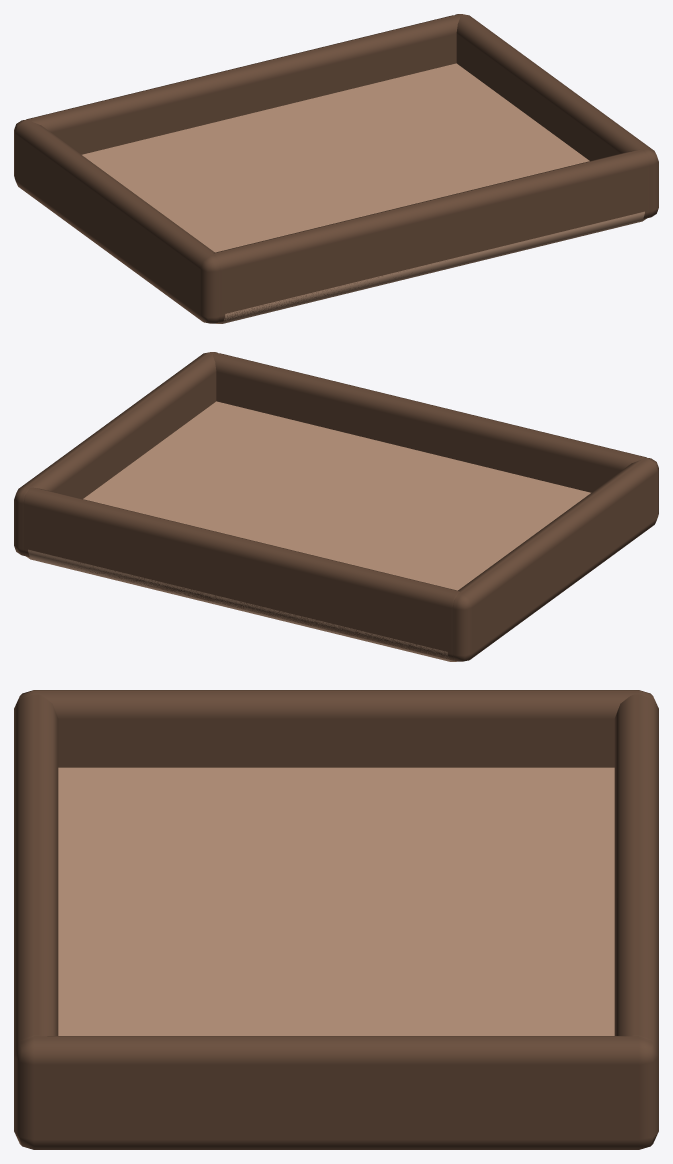
The model's file is tray.glb.
3 renders of one model, top to bottom at view 1: azimuth 30°, elevation 25°; view 2: azimuth 150°, elevation 25°; view 3: azimuth 270°, elevation 25°, orthographic. The views are drawn at different scales.
Visible parts, largest first — view 1: tray.material1, tray.material0; view 2: tray.material1, tray.material0; view 3: tray.material0, tray.material1.
Boxes of the visible parts, left/top/right/bottom form: tray.material1: left=14, top=14, right=658, bottom=323; tray.material0: left=82, top=63, right=647, bottom=323; tray.material1: left=14, top=352, right=658, bottom=661; tray.material0: left=25, top=401, right=590, bottom=661; tray.material0: left=58, top=767, right=614, bottom=1035; tray.material1: left=14, top=690, right=658, bottom=1149.
Size of the model in its own units: 0.388 by 0.058 by 0.29.
